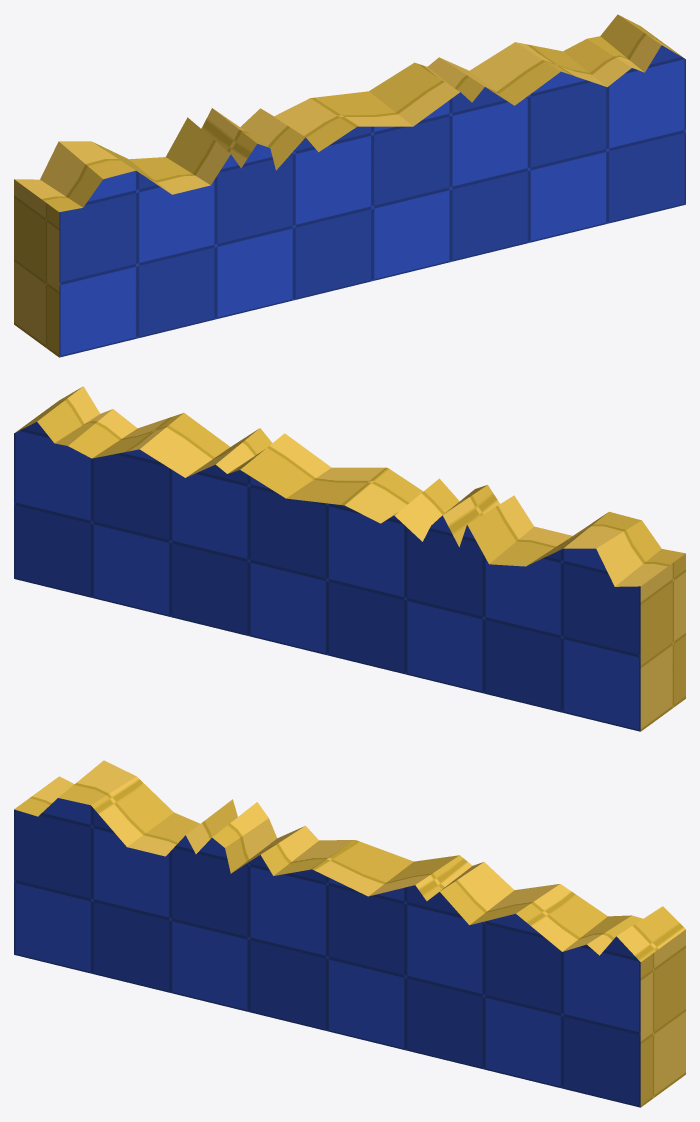
Rendered from WallSm.fbx.
The picture shows the model from 3 angles, top to bottom: view 1: azimuth 30°, elevation 25°; view 2: azimuth 150°, elevation 25°; view 3: azimuth 330°, elevation 25°; orthographic projection.
Visible parts, largest first — view 1: WallSm; view 2: WallSm; view 3: WallSm.
Boxes of the visible parts, left/top/right/bottom form: WallSm: left=14, top=14, right=685, bottom=357; WallSm: left=14, top=386, right=685, bottom=731; WallSm: left=14, top=760, right=685, bottom=1107.
Bounding box in the file's own units: 400 × 50 × 105.
